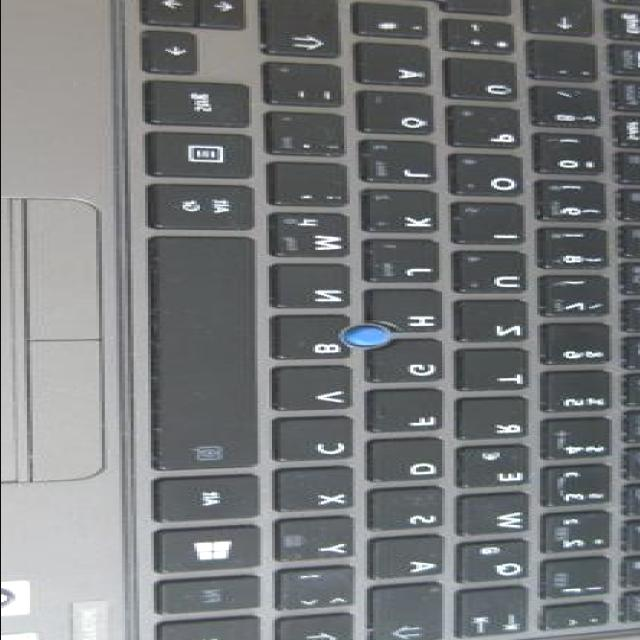0: (539, 136, 614, 180)
1: (548, 562, 623, 604)
2: (548, 515, 623, 559)
3: (551, 468, 623, 511)
4: (551, 422, 623, 465)
5: (548, 375, 620, 417)
6: (548, 327, 620, 369)
7: (548, 278, 620, 322)
8: (542, 232, 617, 274)
9: (542, 184, 617, 226)
a: (378, 541, 456, 585)
accent: (534, 44, 609, 86)
ae: (361, 46, 441, 90)
alt-left: (161, 479, 271, 527)
altgr-right: (156, 187, 268, 235)
b: (280, 319, 360, 364)
c: (283, 421, 367, 467)
caret: (551, 608, 620, 636)
comma: (277, 166, 361, 211)
d: (375, 443, 455, 487)
del: (534, 0, 606, 41)
e: (464, 448, 542, 493)
enter: (358, 0, 525, 20)
f: (375, 394, 455, 438)
g: (375, 345, 455, 387)
h: (375, 293, 453, 337)
hash: (361, 7, 441, 43)
i: (459, 207, 534, 249)
j: (369, 243, 453, 287)
k: (370, 193, 450, 237)
keyboard: (112, 0, 640, 640)
l: (367, 144, 447, 188)
less: (283, 570, 367, 614)
m: (277, 216, 363, 264)
minus: (271, 67, 355, 112)
n: (280, 268, 364, 314)
o: (459, 158, 534, 202)
oe: (366, 95, 444, 139)
p: (456, 109, 534, 153)
plus: (450, 23, 528, 59)
point: (274, 115, 354, 160)
q: (467, 544, 542, 589)
r: (464, 401, 539, 443)
s: (375, 492, 455, 536)
shift-left: (286, 619, 367, 640)
shift-lock: (375, 589, 459, 640)
shift-right: (257, 0, 355, 62)
space: (156, 240, 272, 474)
ss: (536, 89, 611, 131)
strg-left: (165, 622, 277, 640)
strg-right: (153, 84, 265, 132)
t: (464, 354, 539, 396)
tab: (464, 593, 542, 640)
u: (459, 255, 537, 297)
ue: (453, 62, 528, 106)
v: (280, 370, 366, 416)
w: (464, 498, 542, 542)
x: (283, 472, 367, 517)
y: (283, 521, 367, 566)
z: (461, 304, 539, 348)
